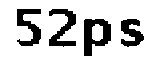2: (46, 6, 77, 47)
5: (11, 6, 44, 48)
p: (81, 15, 113, 60)
s: (119, 18, 146, 50)
